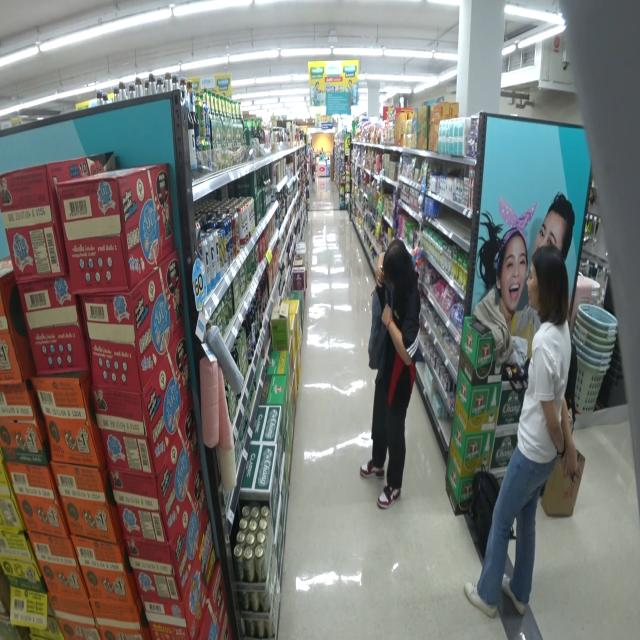shoplifting: (366, 238, 423, 519)
